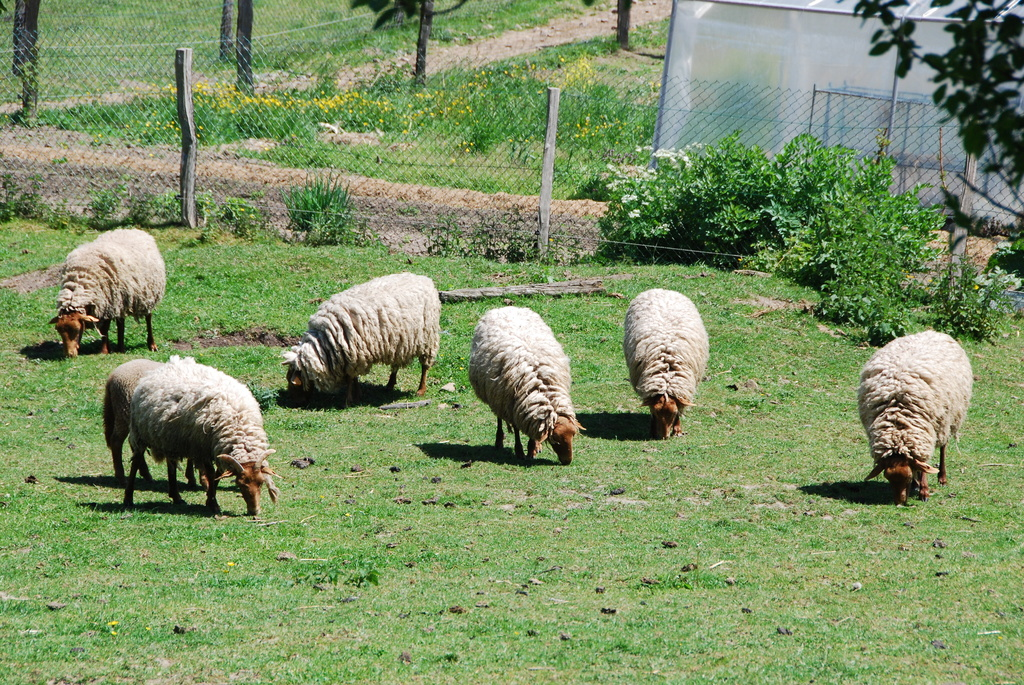sheep: (125, 352, 273, 521), (856, 332, 977, 504), (282, 273, 439, 399), (466, 305, 588, 467), (46, 227, 167, 358), (625, 288, 712, 434)
